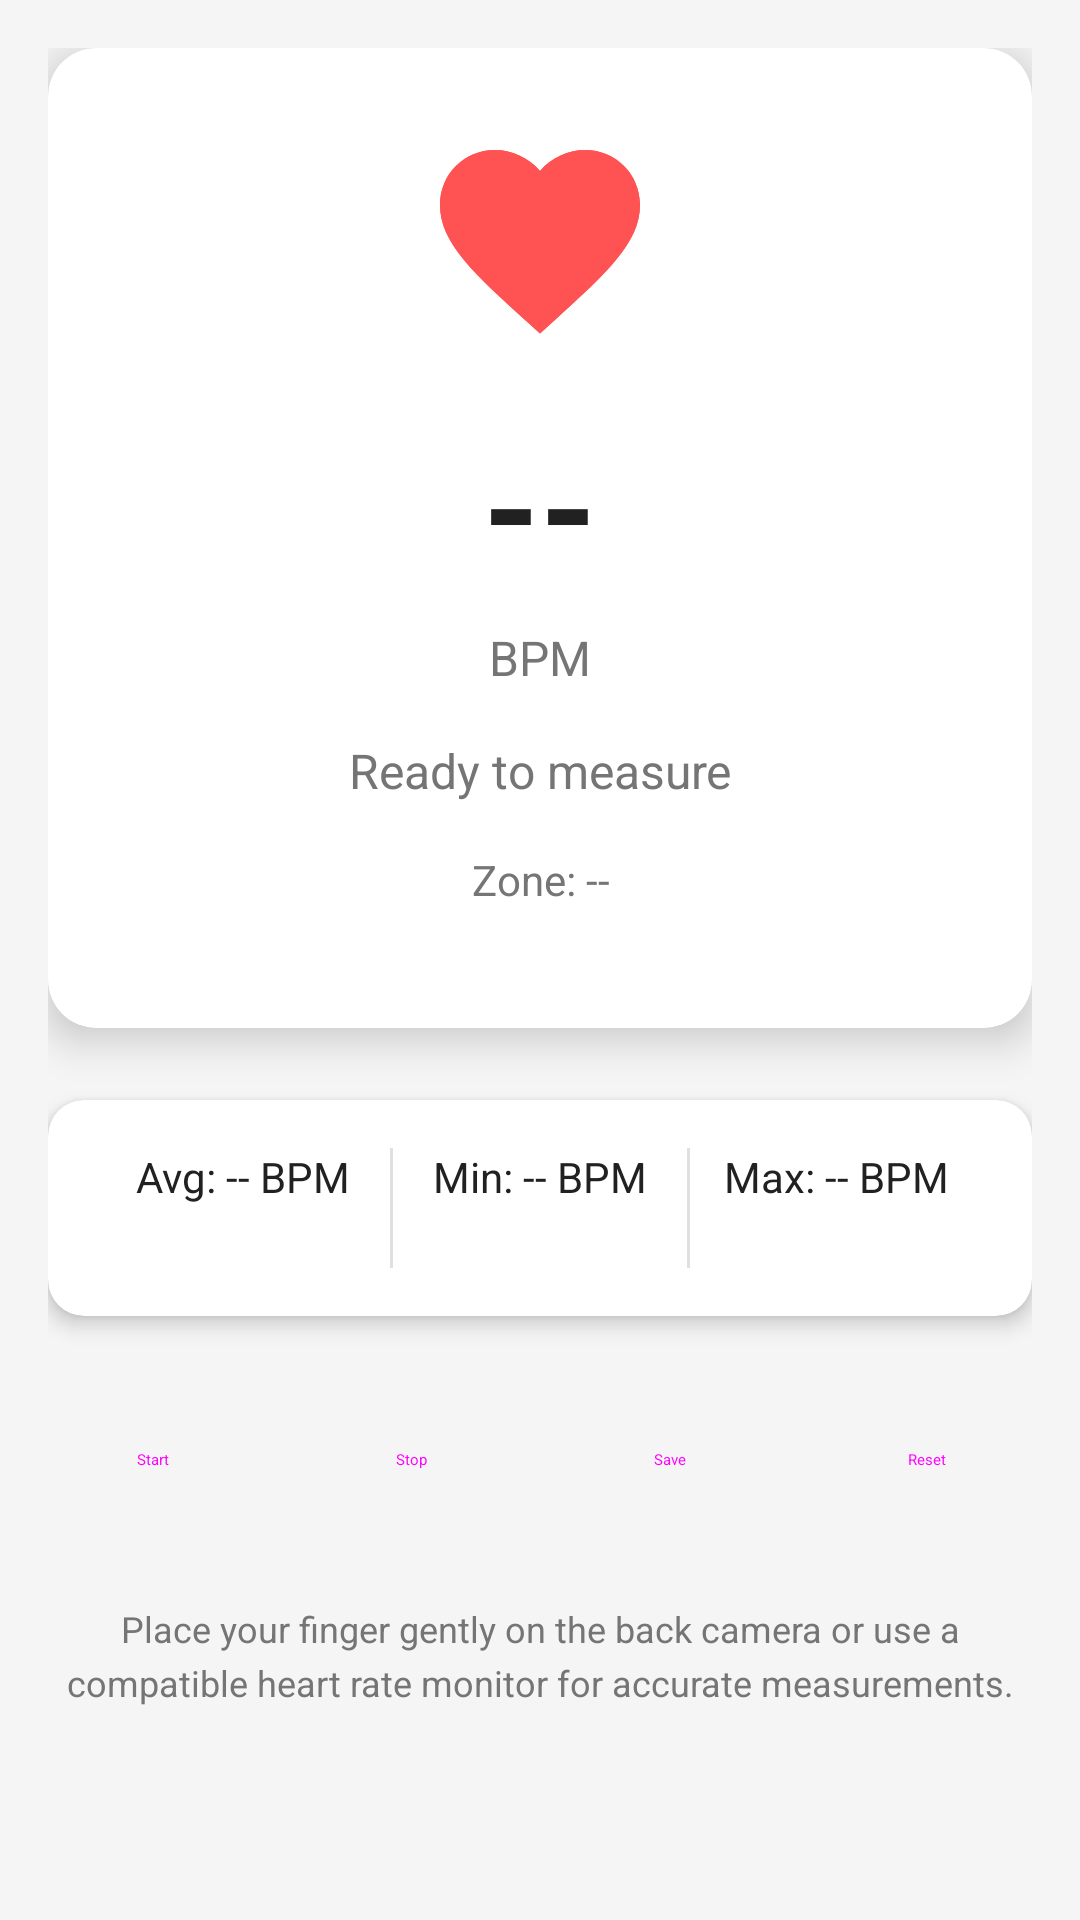

Point at icon controls on the screen. Image size 1080 × 1920, points as point (x, y).
heart: point (540, 242)
